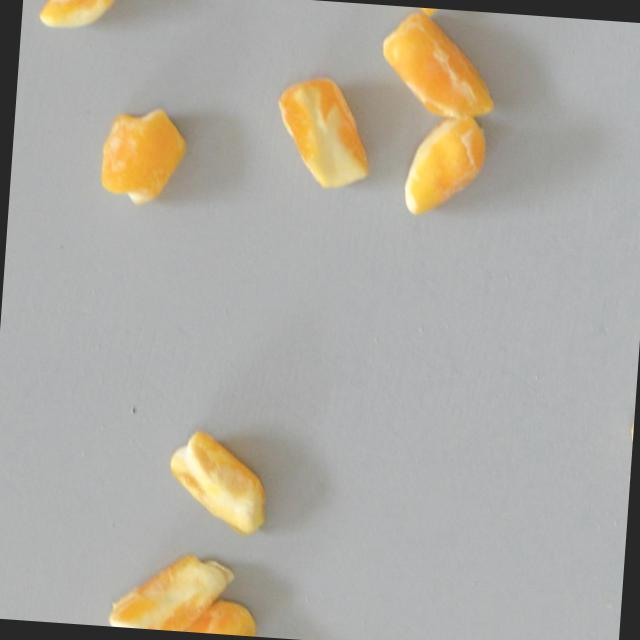dañado: (375, 8, 501, 122), (268, 69, 380, 197), (159, 423, 279, 540), (105, 544, 236, 635), (94, 99, 193, 212), (398, 110, 491, 224), (34, 0, 126, 39), (180, 596, 260, 636), (355, 2, 458, 22), (621, 381, 636, 460)
